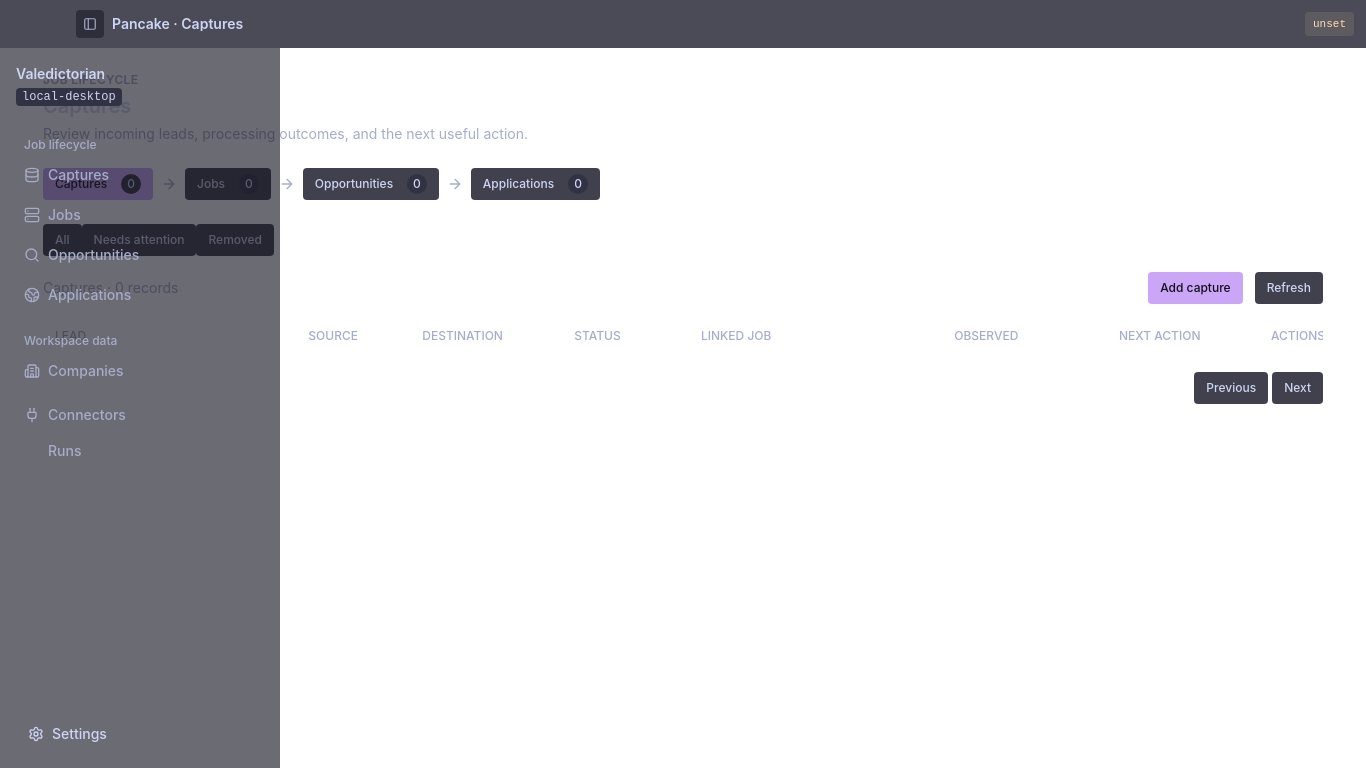
Test: App sidebar navigation › persists desktop collapse and expand through the settings API
Expected: the table named "Captures" is shown, [43,316,1323,356]
Click the button named "Collapse sidebar": (90, 24) [76,10,104,38]
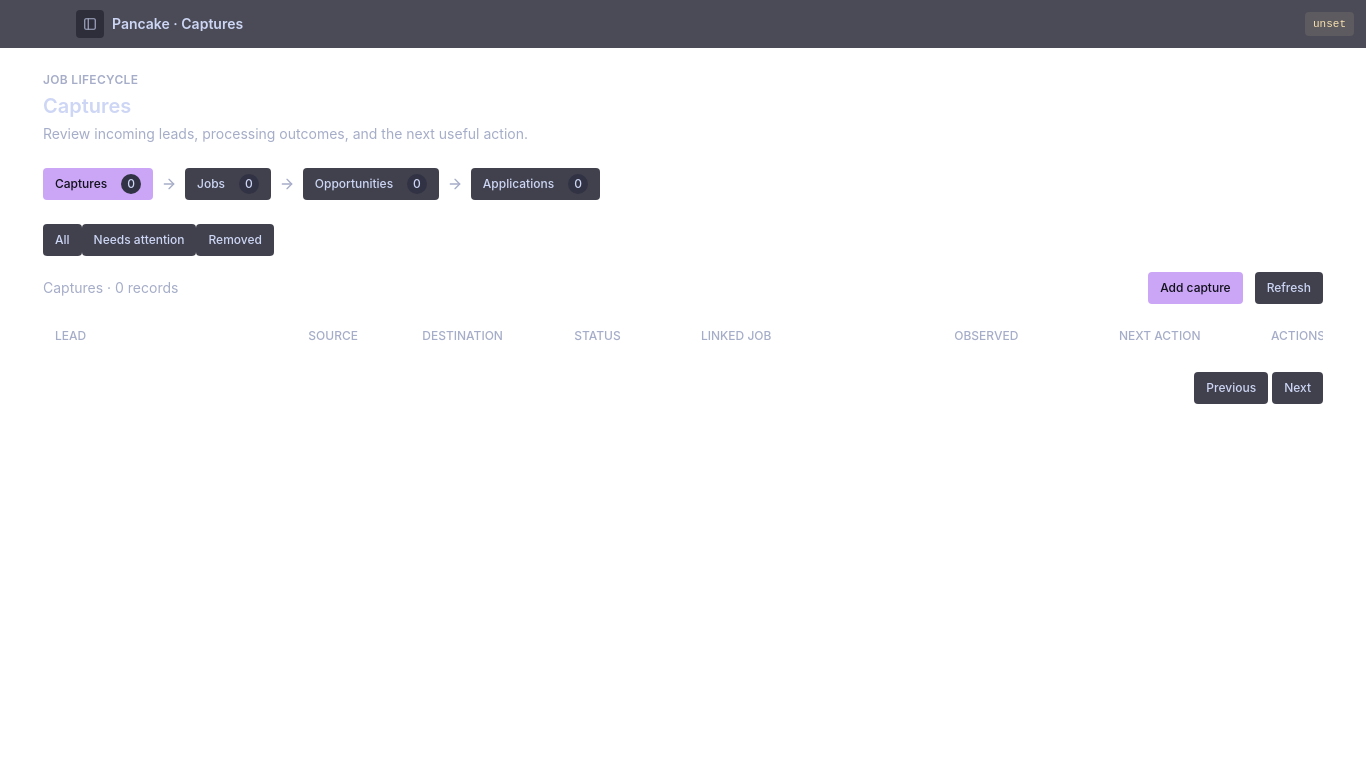
Result: the element with test id "app-shell" has attribute data-sidebar-state="collapsed" at [0,0,1365,404]
Result: the element with test id "app-layout" has class "md:grid-cols-1" at [43,72,1325,404]
Click the button named "Expand sidebar": (90, 24) [76,10,104,38]
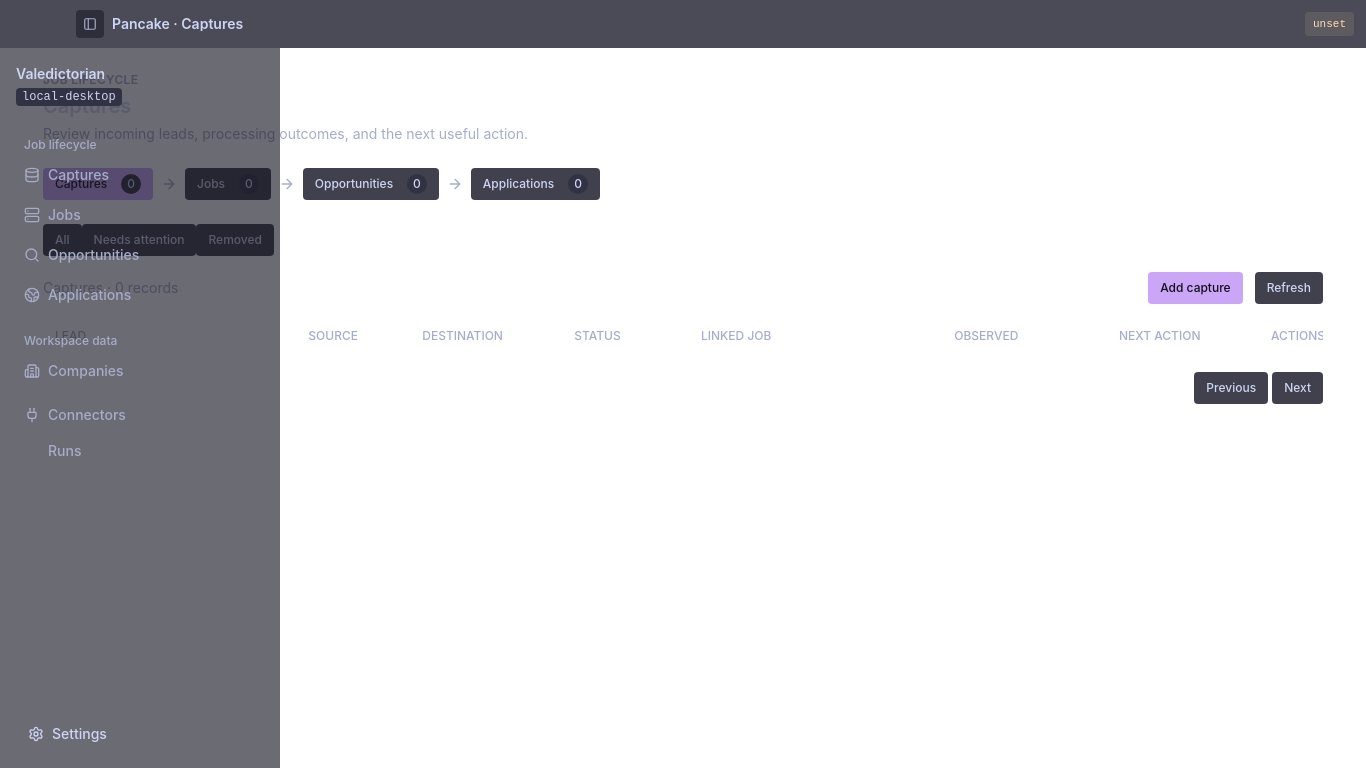
Result: the element named "Application navigation" is shown at [0,48,280,767]
